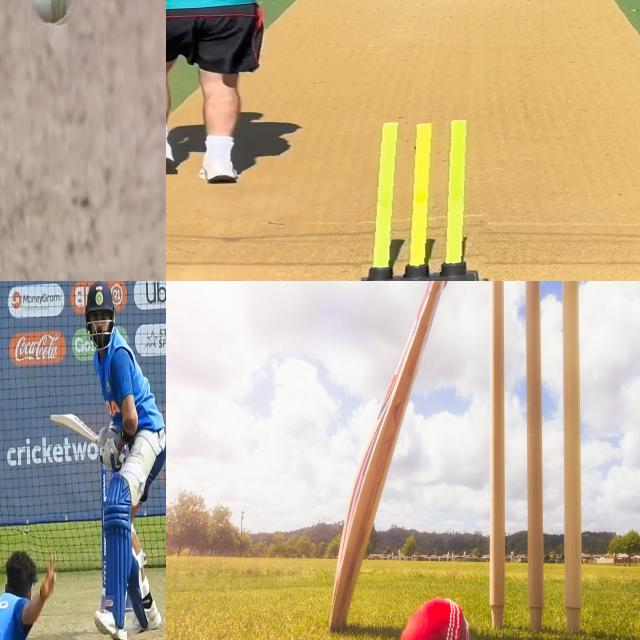Cricket ball: (396, 594, 480, 640), (31, 0, 81, 27)
Stumps: (487, 281, 580, 640), (360, 119, 495, 281)
